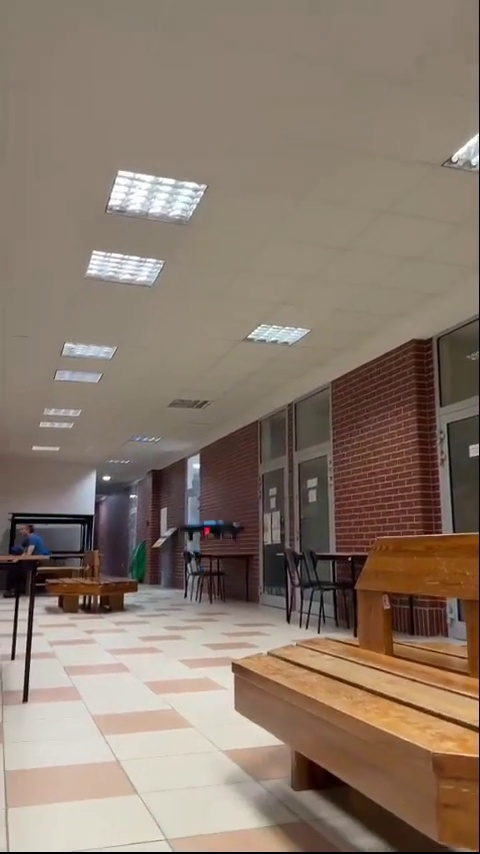drone: (180, 518, 248, 542)
no vest: (8, 508, 57, 599)
